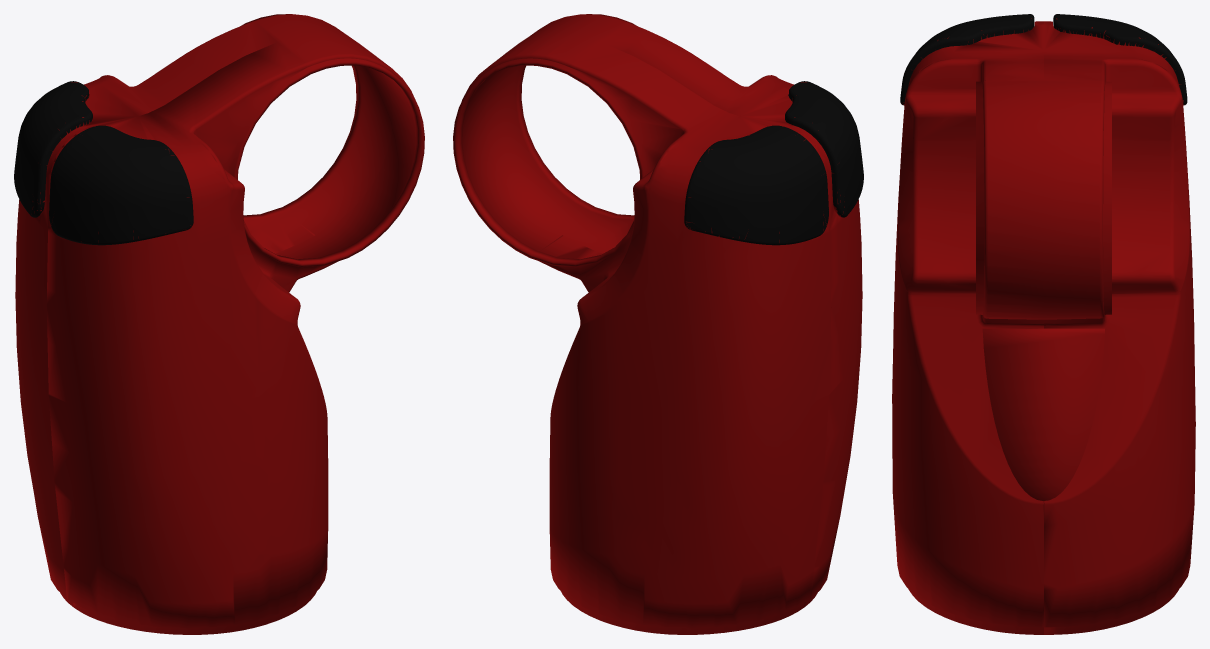
3 views of the same model, side by side, from view 1: azimuth 30°, elevation 25°; view 2: azimuth 150°, elevation 25°; view 3: azimuth 270°, elevation 25° (orthographic). The views are drawn at different scales.
Visible parts, largest first — view 1: E0; view 2: E0; view 3: E0.
Boxes of the visible parts, x1=… form: E0: x1=14, y1=14, x2=424, y2=634; E0: x1=453, y1=14, x2=863, y2=634; E0: x1=892, y1=14, x2=1195, y2=634.
Bounding box in the file's own units: 0.2245 × 0.1586 × 0.3134.
